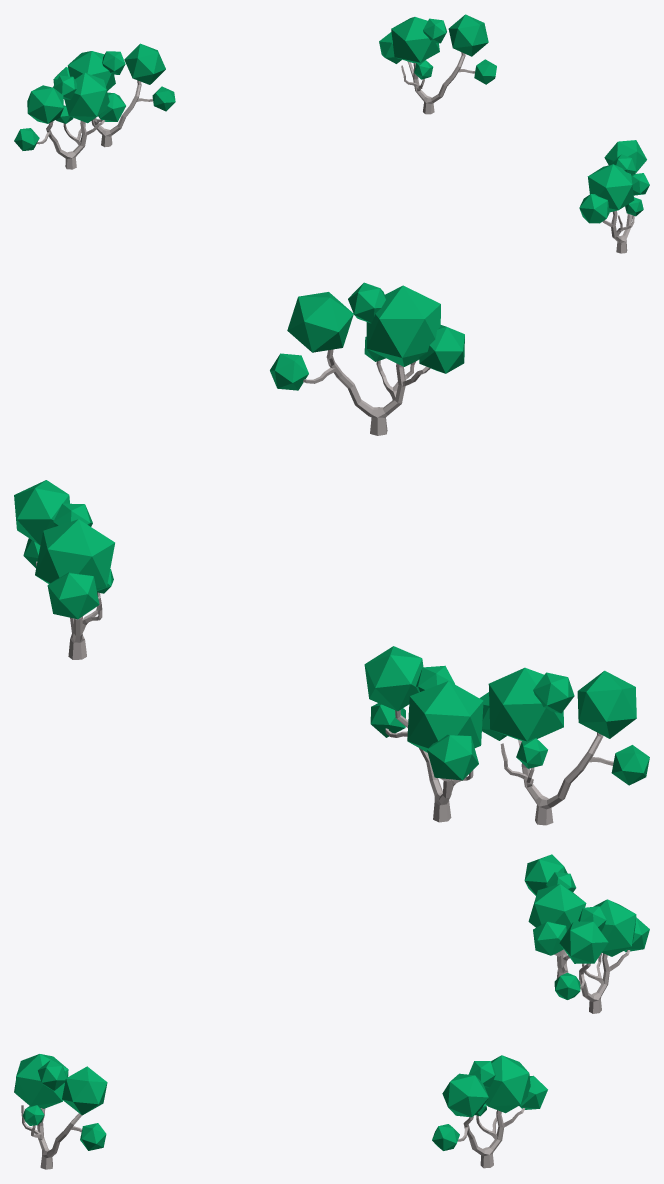
File: trees.glb
3 renders of one model, top to bottom at view 1: azimuth 30°, elevation 25°; view 2: azimuth 150°, elevation 25°; view 3: azimuth 270°, elevation 25°, orthographic. The views are drawn at different scales.
Visible parts, largest first — view 1: Tree_lp_11, Tree_lp_11.003, Tree_lp_11.001, Tree_lp_11.002; view 2: Tree_lp_11.001, Tree_lp_11.003, Tree_lp_11.002, Tree_lp_11; view 3: Tree_lp_11, Tree_lp_11.001, Tree_lp_11.002, Tree_lp_11.003.
Boxes of the visible parts, bbox=[...] form: Tree_lp_11: bbox=[379, 14, 496, 114]; Tree_lp_11.003: bbox=[14, 72, 125, 169]; Tree_lp_11.001: bbox=[579, 140, 649, 253]; Tree_lp_11.002: bbox=[53, 43, 175, 147]; Tree_lp_11.001: bbox=[270, 282, 464, 435]; Tree_lp_11.003: bbox=[479, 667, 649, 825]; Tree_lp_11.002: bbox=[364, 646, 483, 822]; Tree_lp_11: bbox=[14, 480, 114, 659]; Tree_lp_11: bbox=[432, 1055, 547, 1168]; Tree_lp_11.001: bbox=[14, 1054, 107, 1169]; Tree_lp_11.002: bbox=[554, 899, 649, 1013]; Tree_lp_11.003: bbox=[524, 854, 586, 978].
Bounding box in the file's own units: 0.1283 × 0.0265 × 0.1414.
